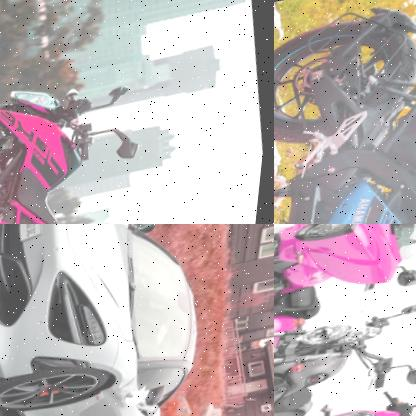bike: (0, 21, 182, 224), (274, 0, 416, 224), (274, 285, 414, 416), (274, 224, 416, 350), (274, 367, 416, 416)
car: (0, 224, 239, 416)
